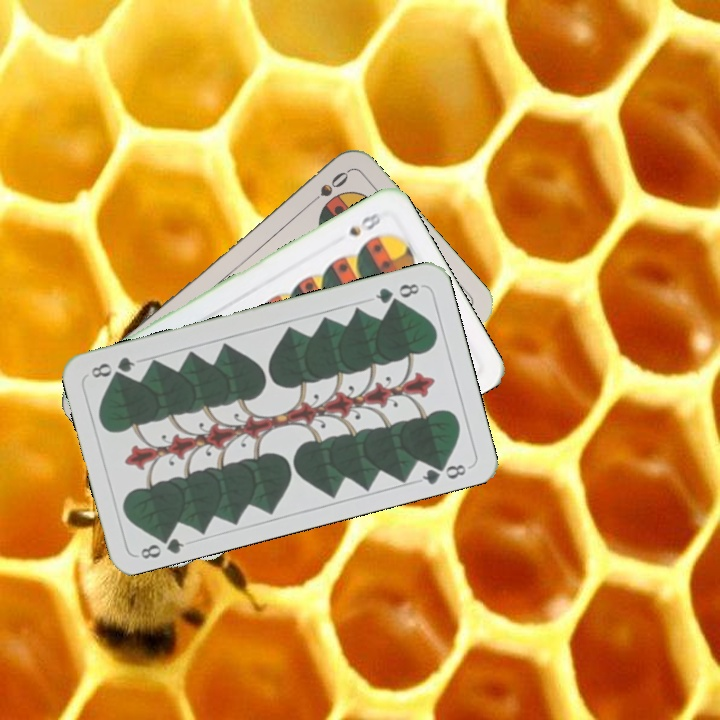G8: (136, 528, 187, 562), (371, 279, 422, 307)
S8: (344, 207, 387, 239)
SO: (302, 167, 352, 210)
